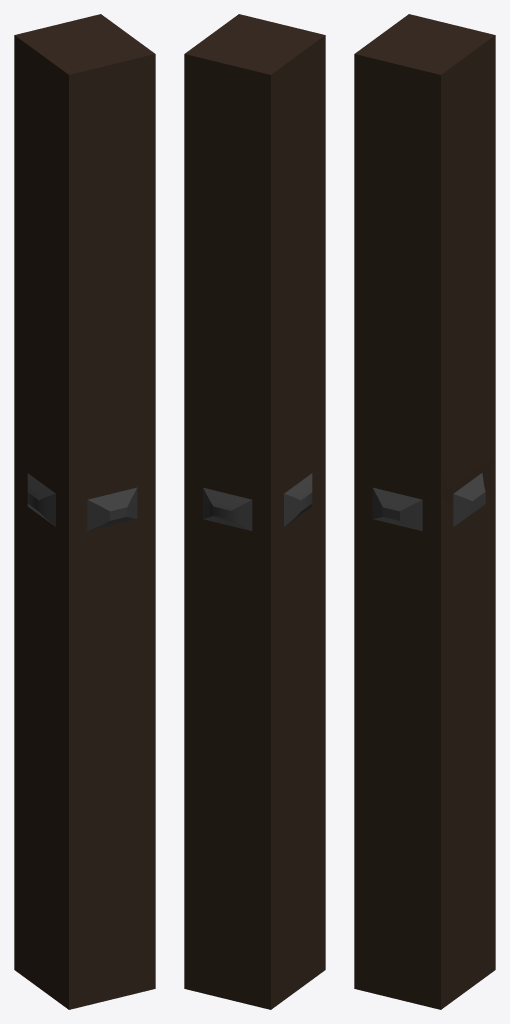
File: Trave 1.fbx
3 views of the same model, side by side, from view 1: azimuth 30°, elevation 25°; view 2: azimuth 150°, elevation 25°; view 3: azimuth 330°, elevation 25° (orthographic).
Visible parts, largest first — view 1: Colonna+inserti.001; view 2: Colonna+inserti.001; view 3: Colonna+inserti.001.
Boxes of the visible parts, x1,y1,x2,y2 form: Colonna+inserti.001: (14,14,155,1009); Colonna+inserti.001: (184,14,325,1009); Colonna+inserti.001: (354,14,495,1009).
Bounding box in the file's own units: 109 × 926 × 119.
